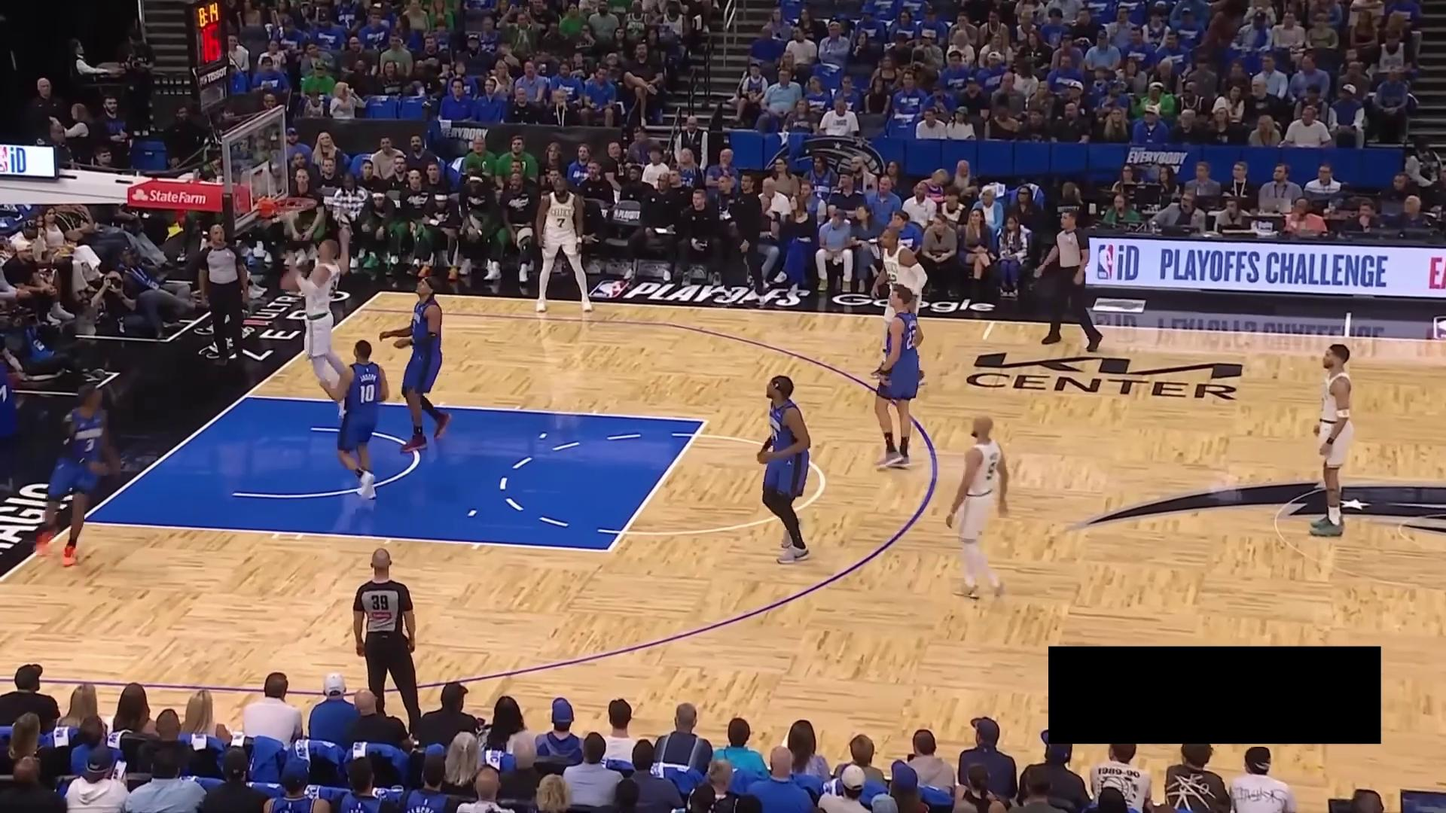ball: (279, 271, 300, 293)
number: (359, 381, 375, 406), (905, 328, 918, 350), (985, 461, 997, 482), (886, 272, 898, 287), (85, 438, 95, 454), (556, 217, 566, 228)
player: (33, 366, 118, 569), (311, 338, 393, 501), (378, 274, 451, 457), (948, 410, 1013, 599), (865, 282, 931, 465), (753, 371, 814, 565), (865, 227, 931, 382), (1309, 341, 1357, 541), (531, 166, 592, 317)
player-layup-dunk: (283, 236, 351, 418)
referee: (352, 547, 425, 725), (1037, 203, 1106, 358), (197, 218, 250, 367)
rim: (273, 196, 315, 212)
